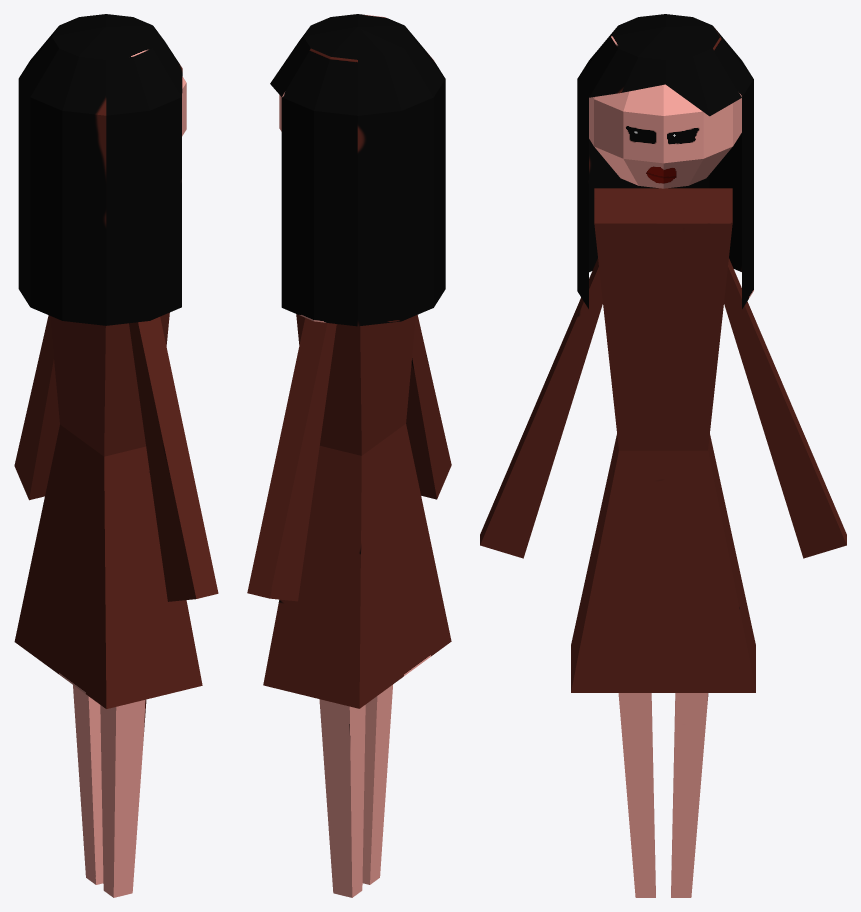
The model's file is modelo.fbx.
3 renders of one model, left to right at view 1: azimuth 30°, elevation 25°; view 2: azimuth 150°, elevation 25°; view 3: azimuth 270°, elevation 25°, orthographic.
Visible parts, largest first — view 1: modelo; view 2: modelo; view 3: modelo.
Boxes of the visible parts, x1,y1,x2,y2 form: modelo: (14, 14, 218, 897); modelo: (247, 14, 451, 897); modelo: (480, 14, 846, 897).
Bounding box in the file's own units: 199 × 1131 × 435.
Materials: 1 (1 with a texture image).
